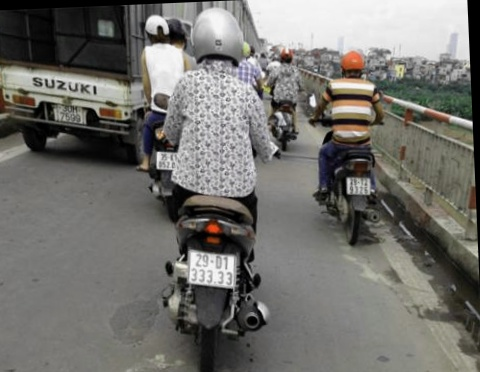Bien-so: (204, 230, 248, 269), (81, 94, 112, 118), (175, 140, 196, 161), (350, 164, 372, 184)
